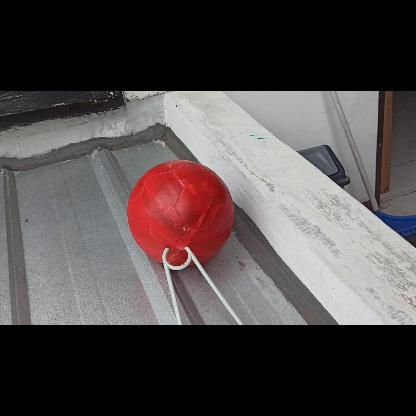red_ball: (128, 160, 233, 265)
